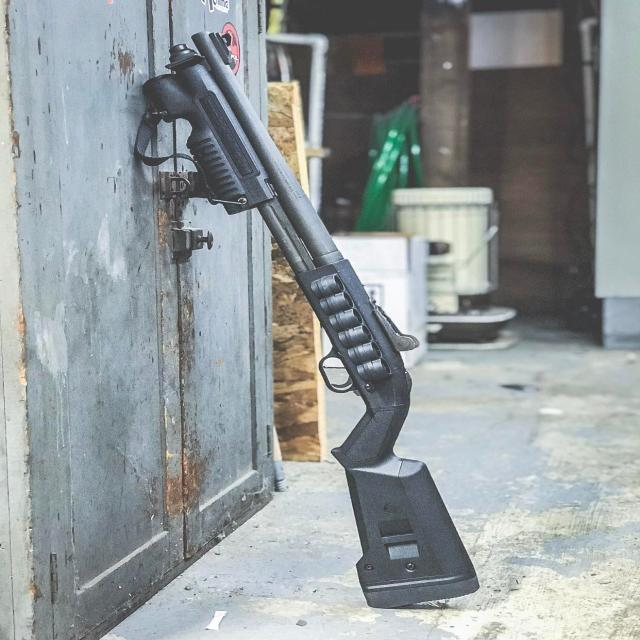ShotGun: (143, 35, 478, 610)
